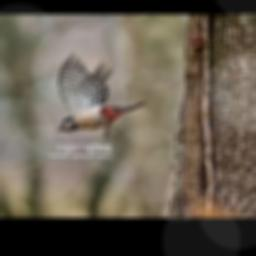Woodpecker: (56, 52, 147, 138)
